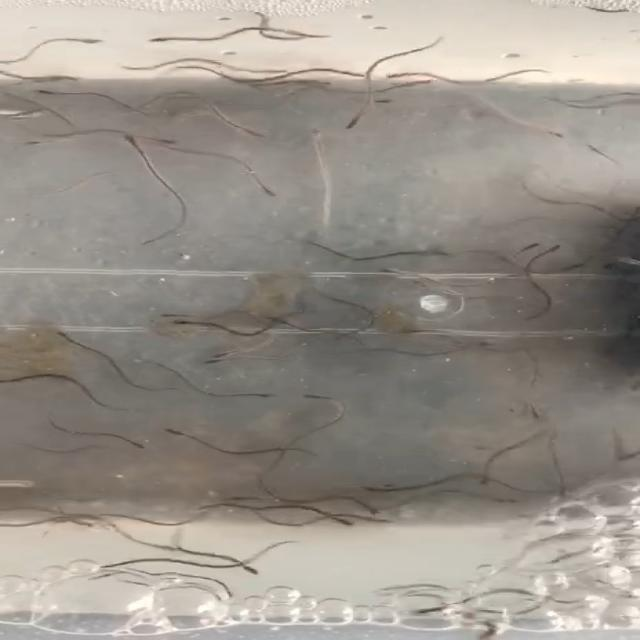active_glass_eel: (528, 119, 570, 141), (519, 242, 572, 258), (112, 130, 152, 149), (336, 116, 375, 135), (140, 28, 177, 48), (152, 132, 191, 150), (250, 180, 288, 198), (505, 402, 543, 419), (482, 491, 520, 508), (239, 128, 277, 144), (460, 335, 495, 352), (399, 77, 447, 89), (211, 345, 244, 362), (349, 516, 392, 529), (162, 534, 191, 553), (513, 237, 545, 254), (429, 246, 463, 262), (259, 62, 297, 76), (376, 71, 424, 82), (402, 276, 437, 291), (244, 387, 274, 404), (296, 76, 338, 88), (201, 358, 243, 370), (70, 35, 107, 48), (358, 96, 406, 106), (58, 517, 98, 529), (410, 604, 444, 618), (230, 563, 264, 577), (120, 438, 156, 451), (220, 492, 259, 504), (18, 136, 47, 152), (48, 72, 86, 84), (266, 316, 296, 331), (158, 425, 192, 438), (298, 391, 329, 405), (584, 142, 608, 160), (475, 624, 502, 640), (32, 86, 64, 99), (326, 331, 358, 344), (48, 329, 77, 343), (472, 473, 501, 487), (325, 516, 355, 529), (170, 314, 194, 330), (359, 480, 386, 494), (552, 264, 589, 274), (396, 326, 426, 338), (152, 308, 182, 320), (377, 266, 404, 278)
